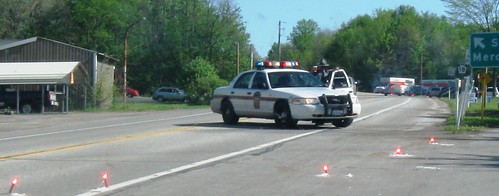building: (1, 30, 119, 111)
police car: (204, 56, 368, 129)
street: (1, 104, 460, 196)
vegetation: (103, 1, 247, 87), (301, 13, 469, 79)
